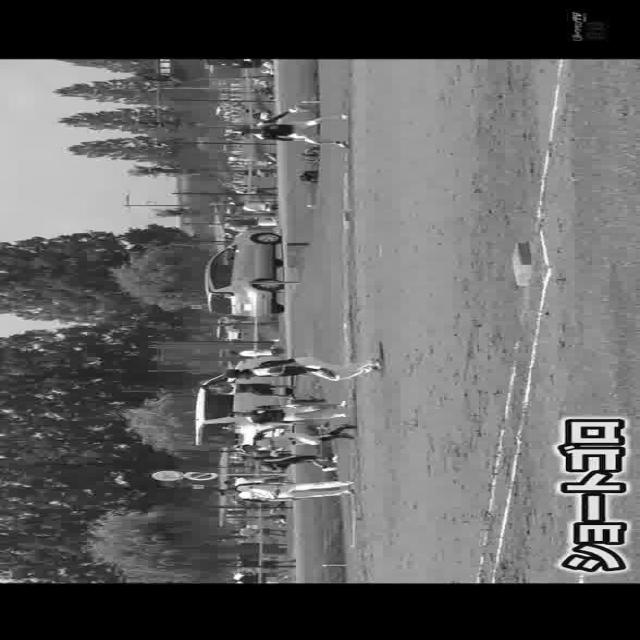base: (512, 241, 536, 287)
baseball_glove: (316, 364, 336, 382)
shoe: (369, 356, 388, 373), (331, 430, 359, 437), (338, 420, 357, 430)
